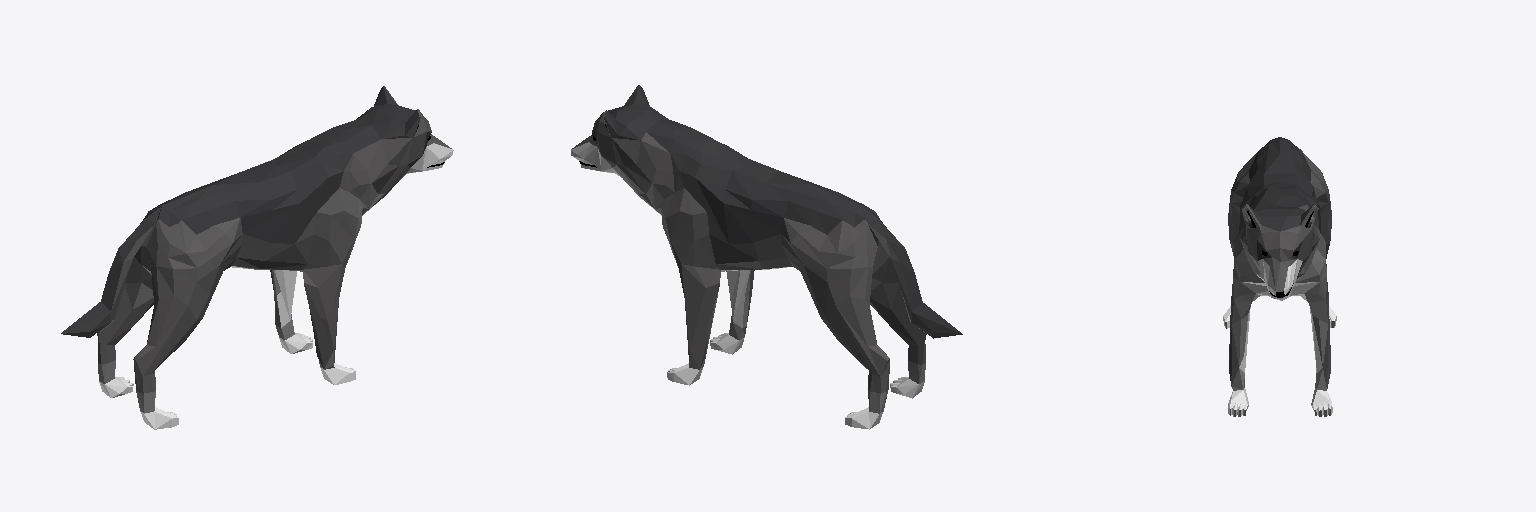
File: wolf.obj
3 renders of one model, left to right at view 1: azimuth 30°, elevation 25°; view 2: azimuth 150°, elevation 25°; view 3: azimuth 270°, elevation 25°, orthographic.
Visible parts, largest first — view 1: Wolf, Wolf.002, Wolf.001, Wolf.003; view 2: Wolf, Wolf.002, Wolf.001, Wolf.003; view 3: Wolf.001, Wolf, Wolf.002.
Boxes of the visible parts, x1=… form: Wolf: x1=134, y1=140, x2=358, y2=274; Wolf.002: x1=97, y1=257, x2=355, y2=429; Wolf.001: x1=310, y1=86, x2=453, y2=235; Wolf.003: x1=61, y1=206, x2=161, y2=337; Wolf: x1=665, y1=138, x2=889, y2=274; Wolf.002: x1=667, y1=257, x2=926, y2=429; Wolf.001: x1=571, y1=85, x2=710, y2=235; Wolf.003: x1=862, y1=206, x2=962, y2=338; Wolf.001: x1=1234, y1=188, x2=1325, y2=300; Wolf: x1=1231, y1=137, x2=1328, y2=302; Wolf.002: x1=1223, y1=194, x2=1336, y2=416.
Size of the model in its own units: 1.82 by 1.1 by 0.4586.